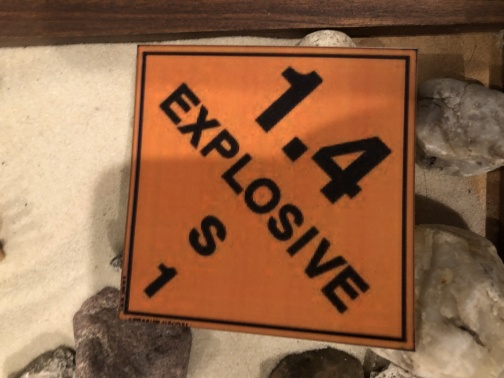Explosive: (137, 46, 410, 339)
